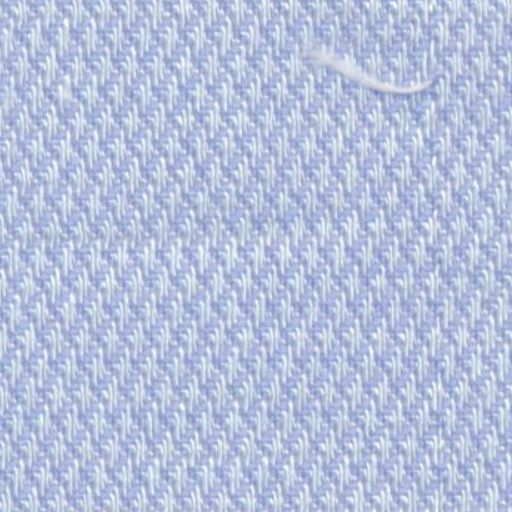DuanSha: (294, 31, 462, 104)
